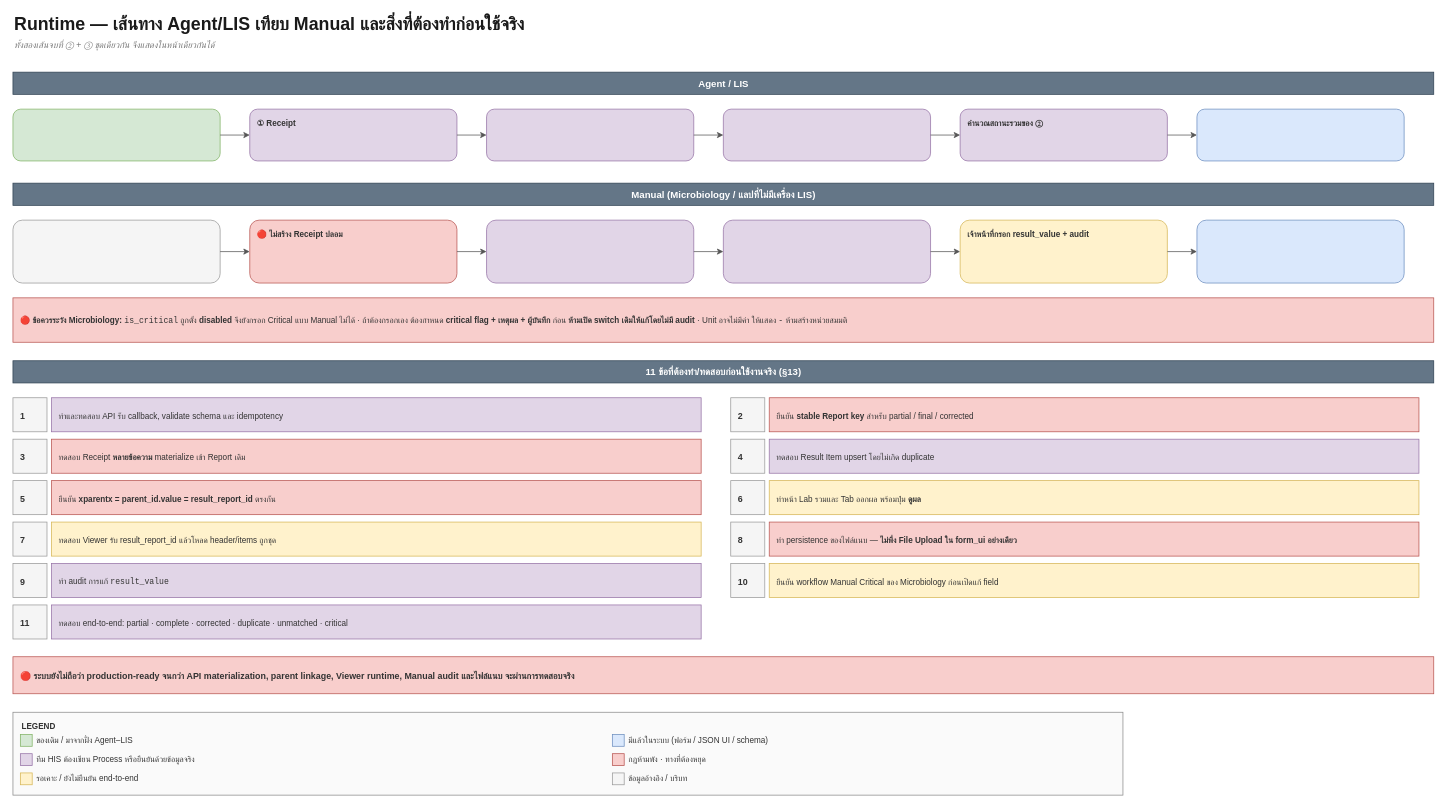
This 1447x808 diagram has some shape labels left out. Here are the shapes that lost their labels. From the top down, the centre of each, then its label:
At (x=116, y=134): "Agent callback".
At (x=590, y=134): "match / get-or-create ②".
At (x=827, y=134): "upsert ③ Result Items".
At (x=1300, y=134): "Viewer แสดงผล".
At (x=116, y=251): "Lab Work Item".
At (x=590, y=251): "get-or-create ②".
At (x=827, y=251): "materialize ③ จาก ordered tests / Result Definition".
At (x=1300, y=251): "Viewer แสดงผลโครงเดียวกัน".
